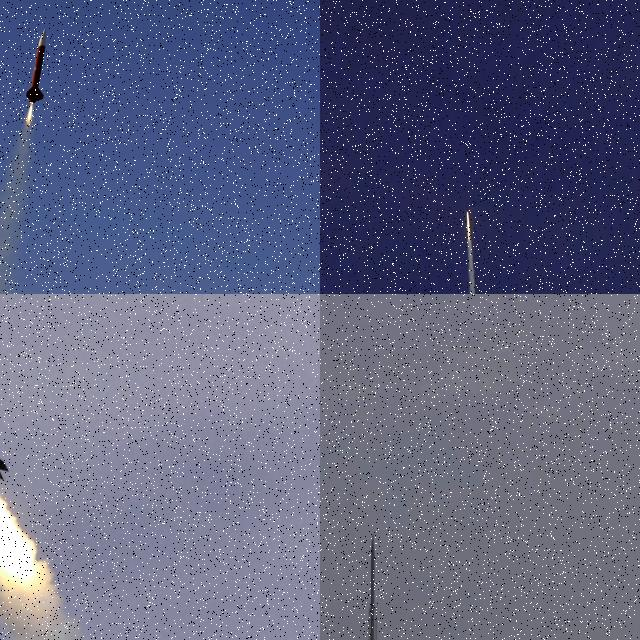Rocket: (25, 28, 47, 103), (366, 532, 378, 640), (466, 203, 468, 213)
